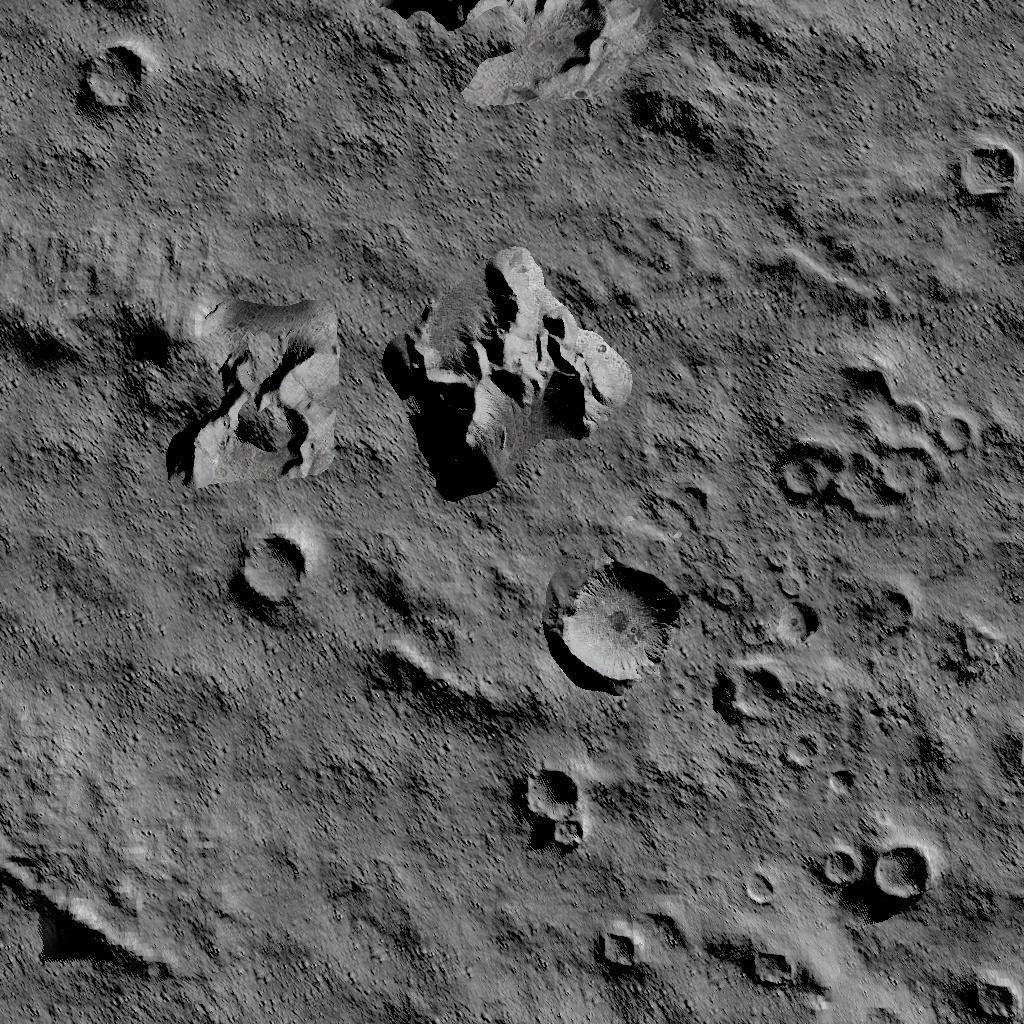Boulders: (5, 226, 337, 494), (364, 0, 796, 163), (380, 246, 634, 504), (348, 540, 528, 727), (0, 862, 172, 998), (750, 193, 929, 322)
Crater: (770, 346, 976, 530), (545, 538, 686, 696), (803, 830, 934, 919), (221, 518, 326, 622), (68, 36, 164, 128), (509, 763, 601, 852), (578, 910, 680, 978), (712, 654, 796, 728), (848, 574, 916, 646), (947, 140, 1017, 208), (738, 942, 808, 996), (959, 970, 1024, 1024), (995, 718, 1024, 778)
Plan surface: (189, 742, 497, 1024), (0, 512, 174, 844), (181, 0, 337, 213), (827, 2, 1024, 125), (183, 632, 337, 730)
